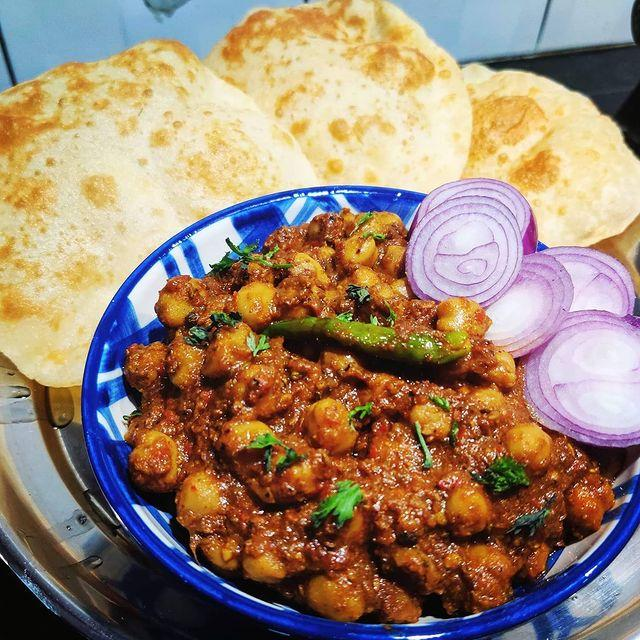Chole: (122, 231, 566, 612)
